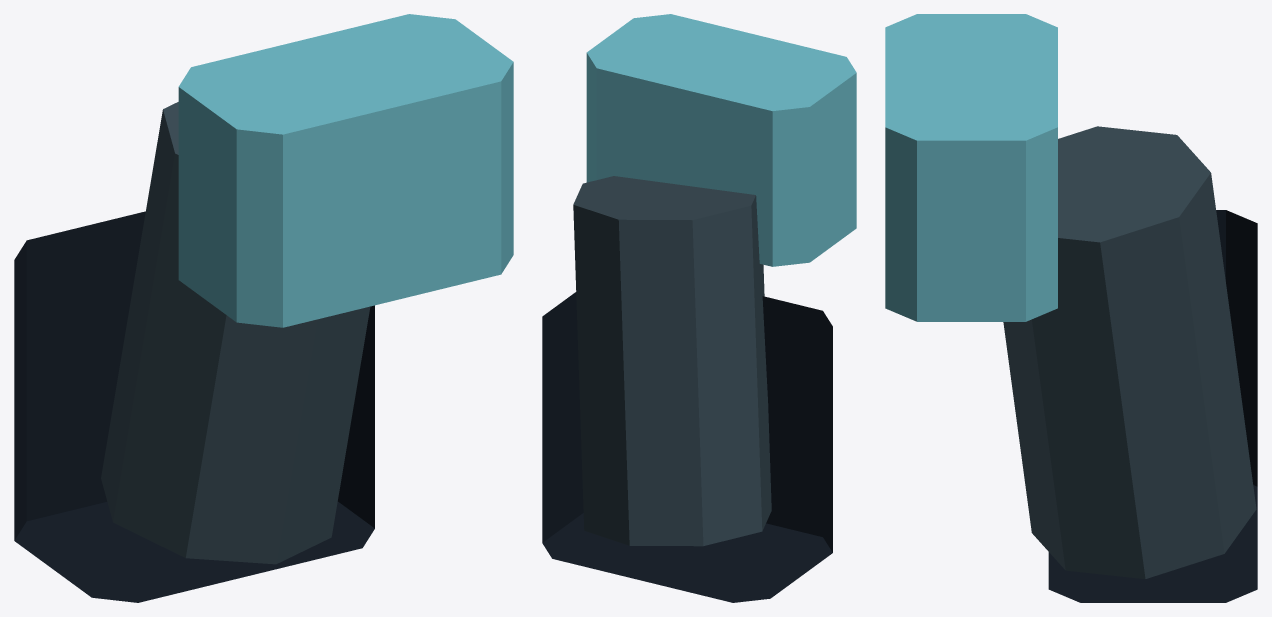
The model's file is enemy_marksman_lod_shin_r.obj.
3 views of the same model, side by side, from view 1: azimuth 30°, elevation 25°; view 2: azimuth 150°, elevation 25°; view 3: azimuth 270°, elevation 25° (orthographic). The views are drawn at different scales.
Size of the model in its own units: 0.3988 by 0.59 by 0.41.
